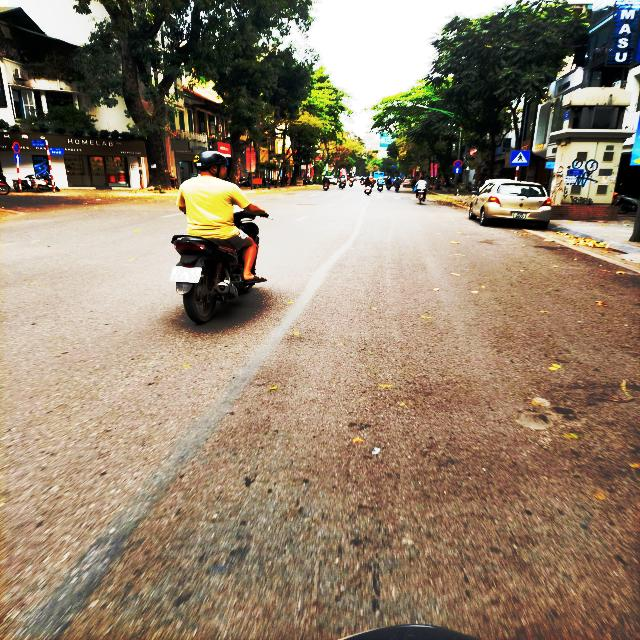license_plate: (171, 267, 202, 284)
